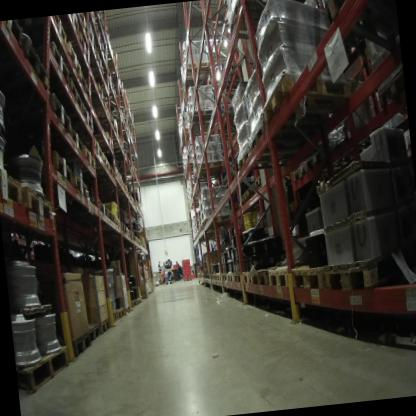pallet: (262, 58, 367, 128), (245, 102, 342, 151), (0, 31, 57, 104), (320, 251, 395, 299), (235, 134, 319, 171), (15, 343, 75, 393), (287, 253, 333, 299), (37, 89, 78, 137), (42, 29, 71, 91), (22, 174, 55, 221), (263, 258, 302, 294), (289, 152, 328, 188), (0, 156, 27, 207), (45, 146, 73, 189), (37, 14, 73, 47), (64, 158, 90, 202), (60, 35, 82, 84), (225, 57, 264, 82), (72, 27, 93, 67), (75, 93, 95, 134), (199, 216, 236, 237), (250, 257, 274, 289), (90, 185, 110, 221), (70, 328, 94, 358), (201, 210, 234, 231), (193, 156, 226, 177), (0, 21, 29, 44), (84, 77, 105, 108), (67, 75, 83, 115), (220, 75, 252, 95), (186, 104, 221, 122), (189, 170, 224, 188), (81, 25, 100, 56), (90, 51, 108, 82), (85, 107, 113, 126), (71, 121, 85, 158), (251, 170, 273, 193), (180, 59, 210, 75), (79, 68, 93, 101), (66, 13, 86, 36), (90, 133, 106, 160), (82, 141, 96, 171), (111, 164, 126, 189), (83, 323, 103, 339), (100, 127, 115, 147), (98, 316, 112, 336), (245, 179, 257, 200), (237, 185, 249, 204), (110, 306, 124, 321), (233, 267, 244, 286), (225, 267, 236, 286), (103, 312, 119, 325), (108, 163, 117, 185), (122, 298, 137, 311), (241, 270, 253, 286), (112, 210, 121, 231), (118, 306, 132, 319), (128, 297, 142, 310), (108, 204, 117, 224), (104, 151, 112, 171), (182, 159, 196, 169), (120, 217, 127, 233), (127, 229, 135, 242), (220, 271, 228, 283), (210, 272, 218, 282), (215, 273, 222, 284)
